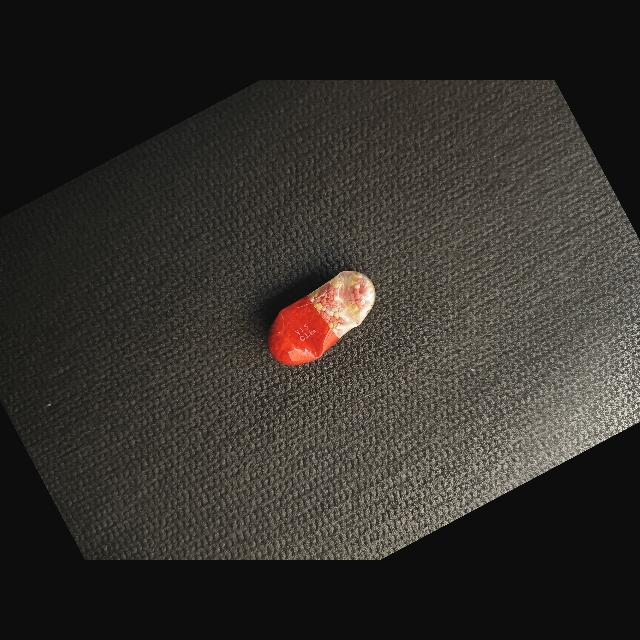Defective Capsule: (267, 271, 376, 365)
